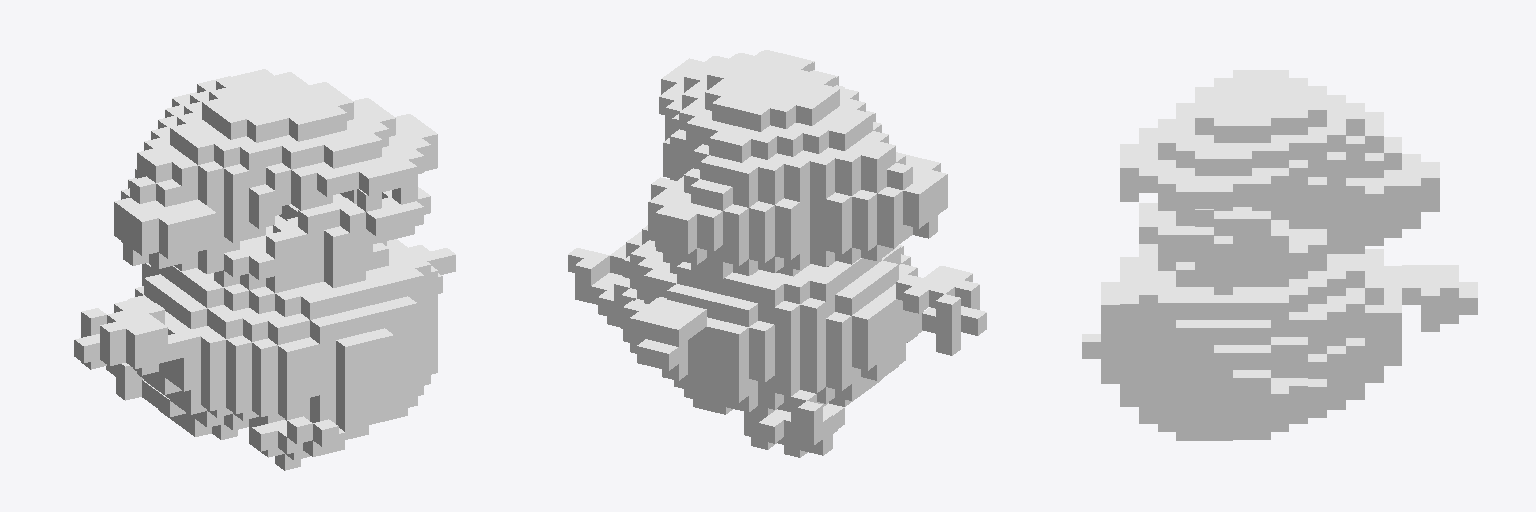
The model's file is FygarInflate2Quarter.obj.
3 renders of one model, left to right at view 1: azimuth 30°, elevation 25°; view 2: azimuth 150°, elevation 25°; view 3: azimuth 270°, elevation 25°, orthographic.
Parts seen in each view (by area): view 1: Fygar; view 2: Fygar; view 3: Fygar.
Boxes of the visible parts, x1,y1,x2,y2 form: Fygar: [74, 69, 455, 470]; Fygar: [568, 50, 986, 457]; Fygar: [1082, 70, 1477, 440].
Size of the model in its own units: 2.4 by 1.9 by 2.1.